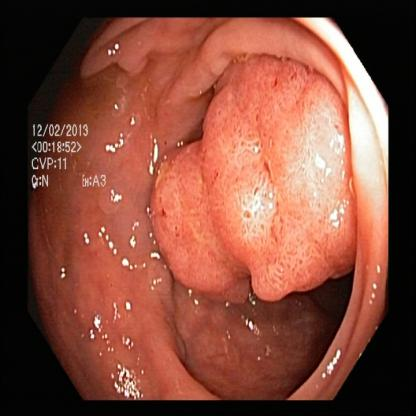Labels: (28, 117, 112, 196)
Polyps: (222, 74, 350, 287), (146, 154, 247, 304)
